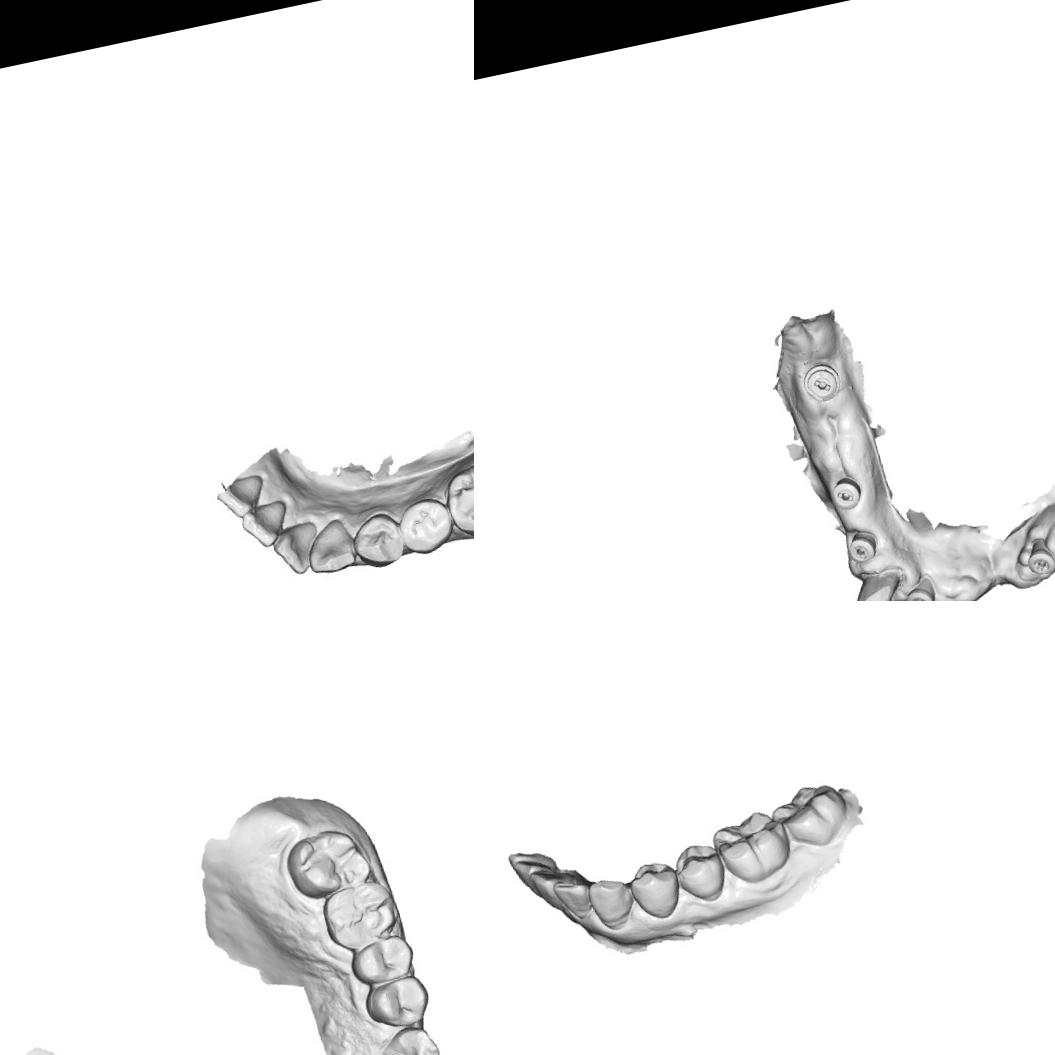canine: (299, 514, 362, 579), (584, 872, 640, 936), (376, 1020, 445, 1055)
crown: (845, 569, 907, 601)
implant_minus: (799, 359, 847, 407), (826, 474, 866, 514), (844, 528, 880, 566)
implant_plus: (1021, 536, 1055, 580), (901, 577, 941, 601)
incisor: (266, 520, 322, 581), (236, 501, 291, 552), (213, 472, 270, 520), (551, 875, 596, 925), (528, 865, 570, 916), (511, 854, 554, 884)
molar: (278, 822, 376, 906), (706, 804, 797, 892), (316, 874, 406, 958), (765, 778, 854, 856), (392, 494, 460, 560), (438, 452, 474, 544)
premolar: (361, 972, 434, 1034), (344, 930, 419, 990), (670, 838, 732, 908), (625, 857, 686, 925), (348, 510, 408, 574)
